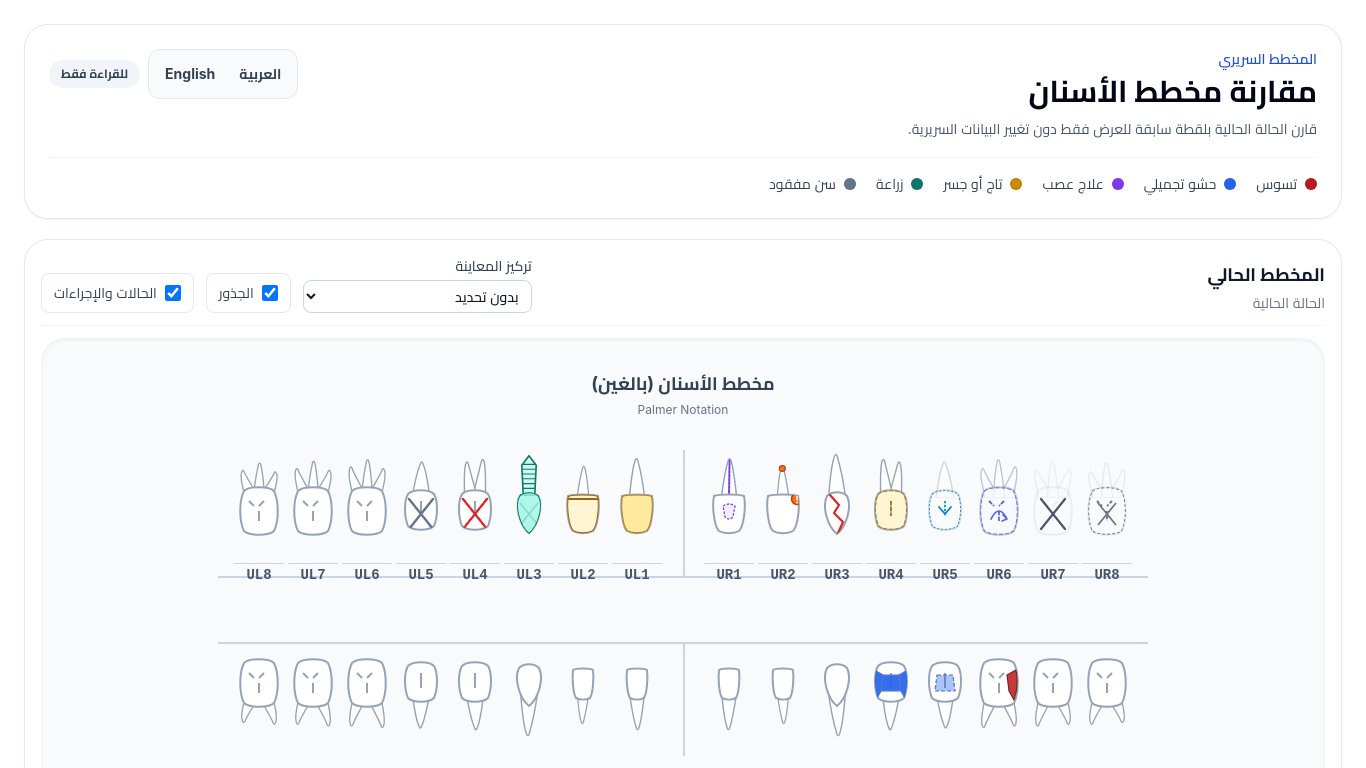
Test: ClinicalChartWorkspace scaffold › switches the feature between Arabic RTL and English LTR
This screenshot has width=1366, height=768.
Click the button "English" at (190, 74), box left=153, top=54, right=227, bottom=94
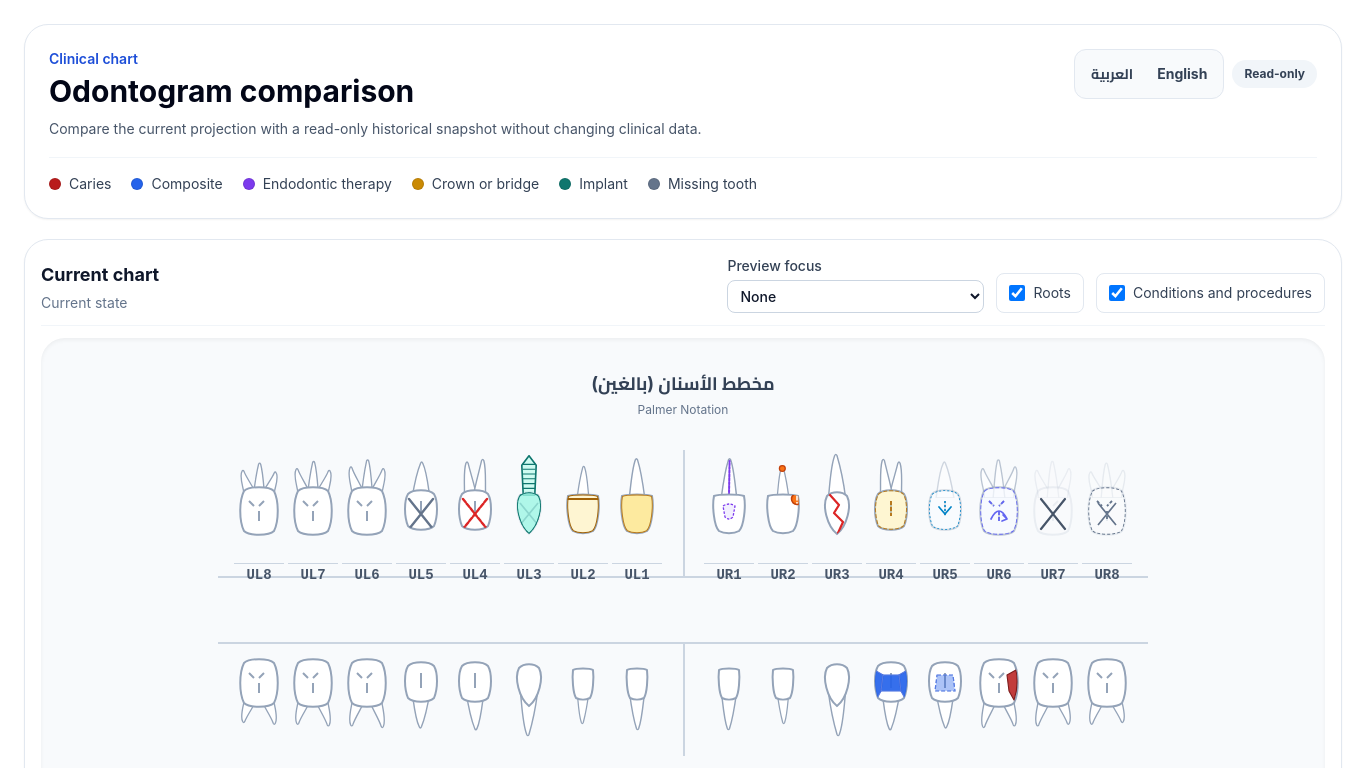
Expected: the heading "Odontogram comparison" is shown, left=49, top=73, right=414, bottom=109
Expected: the dropdown named "Preview focus - Current chart" is shown, left=728, top=280, right=984, bottom=313
